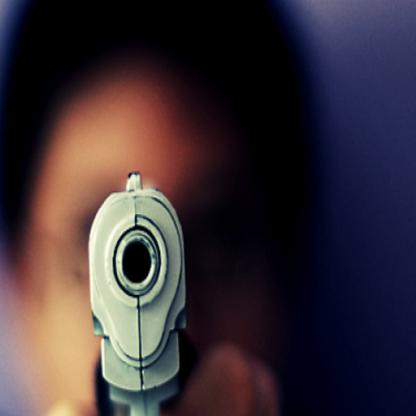gun: (87, 164, 188, 415)
